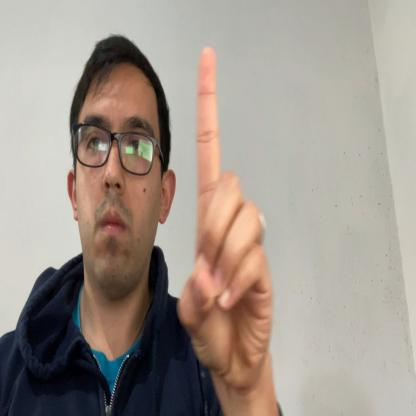D: (176, 45, 273, 388)
